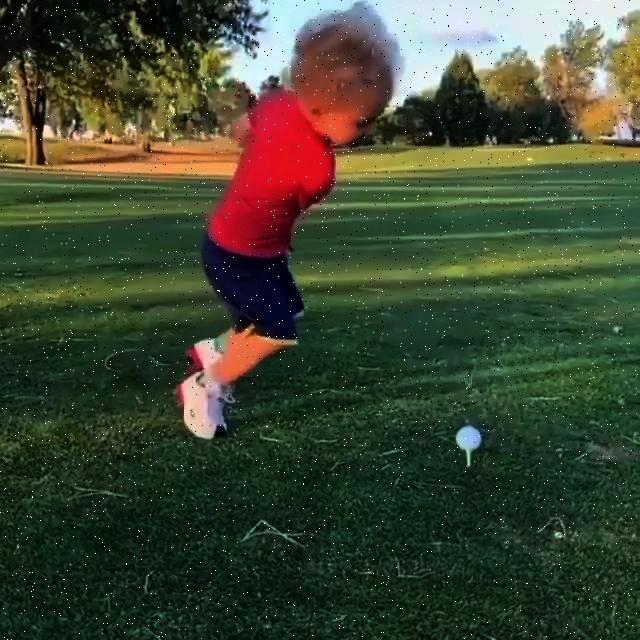golf ball: (455, 426, 482, 451)
